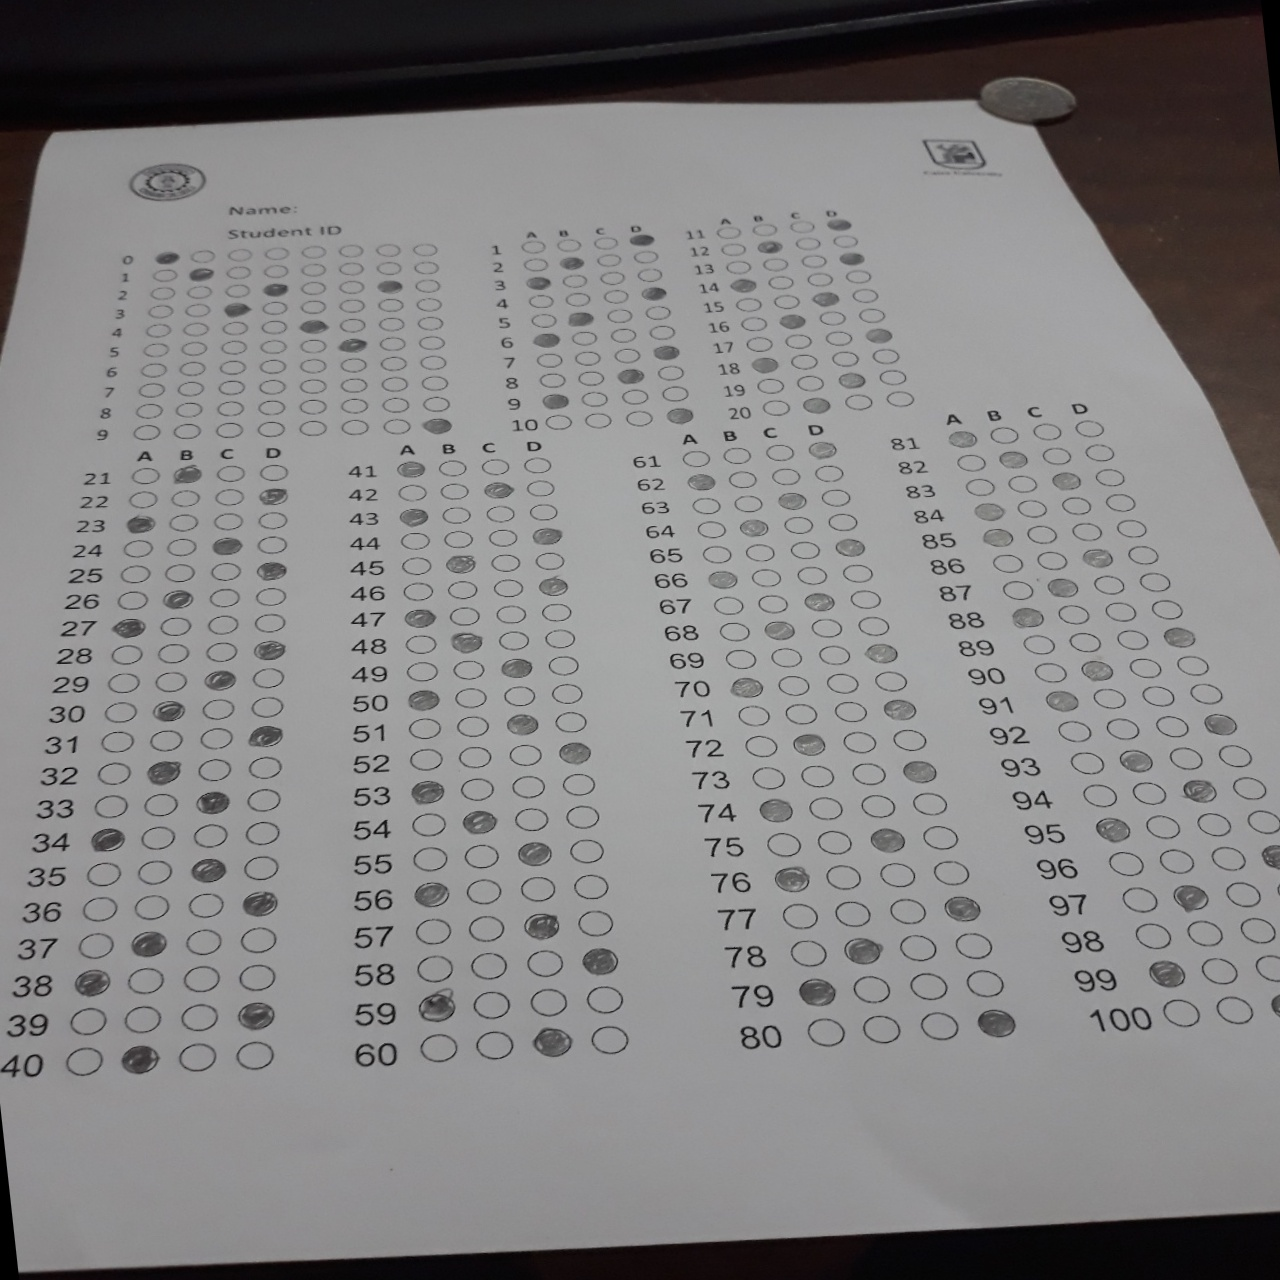not-c: (64, 1005, 113, 1037), (175, 1040, 222, 1073), (120, 1003, 166, 1035), (233, 1039, 279, 1070), (60, 1044, 105, 1076), (123, 964, 166, 995), (184, 888, 229, 919), (860, 1012, 903, 1043), (1192, 806, 1234, 838), (74, 930, 117, 960), (130, 892, 173, 922), (850, 974, 893, 1005), (1158, 996, 1201, 1027), (182, 926, 226, 955), (524, 947, 566, 978), (414, 953, 456, 983), (1214, 994, 1257, 1024), (1198, 955, 1240, 986), (1235, 914, 1278, 945), (1184, 917, 1226, 947), (1105, 847, 1148, 878), (1207, 843, 1250, 873), (1078, 778, 1121, 809), (178, 1002, 222, 1032), (179, 964, 223, 993), (237, 924, 280, 953), (79, 893, 122, 922), (134, 856, 177, 885), (804, 1016, 847, 1046), (1131, 919, 1175, 948), (470, 988, 511, 1019), (527, 987, 568, 1017), (584, 983, 625, 1014), (588, 1023, 629, 1054), (1223, 878, 1264, 908), (1119, 883, 1160, 913), (1126, 776, 1167, 806), (411, 915, 454, 945), (467, 951, 509, 980), (234, 962, 277, 992), (952, 930, 994, 959), (964, 969, 1006, 999), (907, 971, 949, 1000), (918, 1010, 960, 1040), (1141, 811, 1183, 840), (1228, 774, 1271, 803), (574, 907, 615, 937), (474, 1029, 515, 1058), (417, 1032, 458, 1061), (139, 790, 181, 819), (787, 938, 828, 967), (1156, 845, 1197, 874), (239, 852, 281, 880), (241, 819, 284, 847), (138, 823, 181, 851), (89, 792, 131, 821), (876, 859, 915, 888), (832, 898, 872, 927), (83, 859, 124, 887), (191, 822, 232, 850), (930, 858, 971, 886), (823, 863, 863, 891), (779, 901, 819, 930), (243, 787, 284, 813), (887, 896, 928, 922), (1242, 806, 1280, 836), (463, 877, 503, 904), (467, 914, 506, 941), (888, 726, 928, 753), (1065, 749, 1107, 775), (567, 837, 606, 864), (518, 874, 557, 901), (898, 934, 937, 961), (94, 760, 134, 785), (248, 666, 288, 692), (849, 760, 888, 785), (1053, 717, 1092, 743), (572, 872, 610, 899), (1153, 712, 1191, 738), (147, 727, 185, 753), (101, 699, 139, 724), (749, 764, 788, 790), (797, 762, 836, 788), (859, 792, 898, 818), (815, 829, 853, 855), (1103, 714, 1142, 740), (97, 728, 137, 753), (150, 669, 190, 694), (908, 791, 948, 816), (920, 825, 960, 850), (762, 832, 802, 857), (463, 842, 501, 867), (245, 754, 282, 779), (806, 795, 844, 821), (1187, 680, 1225, 706), (1138, 682, 1176, 708), (197, 726, 236, 750), (246, 694, 285, 719), (103, 670, 142, 695), (155, 640, 193, 665), (840, 729, 879, 754), (1165, 745, 1204, 770), (202, 640, 241, 663), (410, 846, 448, 871), (200, 696, 238, 721), (455, 745, 493, 769), (510, 774, 549, 797), (410, 812, 449, 836), (563, 804, 601, 828), (998, 579, 1036, 602), (250, 612, 290, 634), (161, 561, 200, 584), (162, 535, 202, 557), (408, 747, 445, 770), (506, 742, 544, 765), (513, 806, 551, 830), (1032, 661, 1069, 685), (1112, 627, 1150, 651), (1019, 633, 1056, 656), (1102, 599, 1139, 622), (1135, 570, 1172, 593), (1124, 543, 1162, 566), (1114, 516, 1151, 539), (195, 757, 233, 779), (156, 614, 195, 636), (203, 613, 241, 635), (251, 586, 290, 608), (206, 586, 245, 608), (1033, 549, 1071, 571), (1252, 951, 1280, 981), (824, 670, 860, 694), (1091, 686, 1128, 709), (1148, 598, 1184, 621), (1091, 572, 1128, 595), (1022, 522, 1058, 545), (1013, 496, 1049, 519), (1103, 490, 1139, 513), (953, 450, 989, 474), (1070, 416, 1107, 440), (114, 588, 154, 610), (108, 644, 145, 666), (742, 734, 779, 756), (1126, 656, 1164, 679), (1065, 629, 1103, 652), (1054, 601, 1091, 624), (1068, 519, 1105, 542), (1028, 418, 1065, 441), (983, 422, 1021, 444), (1175, 654, 1210, 678), (116, 563, 155, 584), (205, 561, 244, 583), (252, 533, 291, 554), (166, 486, 205, 508), (124, 488, 163, 509), (452, 686, 489, 708), (559, 772, 595, 795), (459, 777, 496, 799), (831, 700, 867, 722), (1217, 743, 1253, 765), (989, 552, 1026, 574), (1081, 441, 1117, 463), (120, 537, 157, 558), (254, 510, 292, 531), (210, 510, 247, 531), (164, 511, 202, 532), (783, 702, 818, 724), (1058, 493, 1094, 516), (1092, 467, 1128, 489), (964, 475, 999, 497), (1039, 444, 1074, 467), (455, 715, 491, 736), (769, 645, 803, 667), (549, 682, 584, 703), (553, 712, 588, 733), (407, 717, 442, 738), (855, 615, 890, 636), (723, 648, 758, 669), (736, 704, 771, 726), (445, 579, 479, 600), (493, 604, 527, 625), (873, 670, 907, 692), (1005, 472, 1039, 493), (502, 685, 537, 704), (211, 486, 246, 506), (402, 581, 435, 602), (498, 629, 531, 651), (406, 661, 438, 682), (777, 674, 810, 695), (452, 659, 486, 679), (847, 588, 881, 608), (712, 595, 745, 615), (816, 644, 850, 663), (491, 577, 524, 597), (448, 605, 481, 625), (540, 601, 573, 621), (543, 628, 576, 648), (546, 655, 579, 675), (128, 467, 161, 486), (679, 448, 712, 468), (811, 462, 844, 482), (694, 519, 727, 539), (743, 542, 776, 561), (795, 565, 828, 585), (840, 561, 873, 581), (756, 592, 789, 612), (719, 620, 751, 640), (809, 617, 842, 636), (399, 556, 433, 574), (819, 486, 851, 506), (701, 543, 733, 563), (750, 567, 782, 587), (257, 463, 292, 481), (441, 505, 474, 524), (486, 527, 519, 546), (403, 634, 436, 653), (215, 463, 247, 482), (719, 445, 751, 464), (763, 442, 796, 461), (726, 468, 758, 486), (781, 515, 813, 533), (788, 539, 821, 558), (690, 495, 721, 515), (395, 483, 429, 501), (437, 482, 471, 499), (217, 377, 248, 396), (527, 502, 559, 520), (442, 530, 474, 549), (843, 392, 874, 410), (731, 493, 763, 512), (479, 457, 512, 475), (520, 456, 553, 474), (484, 504, 517, 522), (399, 531, 431, 549), (544, 411, 574, 430), (620, 387, 651, 406), (613, 346, 644, 365), (769, 467, 799, 485), (828, 512, 858, 531), (258, 377, 290, 395), (379, 354, 410, 372), (436, 458, 468, 476), (524, 478, 556, 496), (489, 553, 520, 571), (533, 551, 565, 568), (660, 384, 692, 402), (884, 389, 915, 407), (877, 368, 908, 386), (137, 380, 166, 399), (181, 320, 211, 338), (215, 421, 245, 438), (420, 374, 450, 392), (538, 372, 568, 389), (647, 324, 678, 341), (642, 304, 673, 321), (533, 352, 565, 368), (529, 312, 560, 328), (179, 339, 209, 356), (219, 338, 248, 355), (418, 353, 448, 370), (175, 401, 205, 417), (176, 381, 206, 397), (177, 361, 207, 377), (219, 320, 250, 336), (218, 360, 248, 376), (216, 400, 246, 416), (256, 421, 286, 437), (257, 400, 287, 416), (259, 359, 290, 375), (259, 319, 290, 335), (299, 338, 329, 354), (298, 420, 328, 436), (340, 418, 370, 435), (339, 376, 369, 393), (380, 375, 410, 392), (381, 417, 411, 434), (583, 411, 613, 428), (655, 365, 686, 381), (576, 369, 606, 386), (573, 350, 604, 367), (608, 327, 639, 343), (570, 329, 600, 346), (856, 307, 886, 324), (781, 333, 811, 349), (830, 349, 860, 366), (870, 347, 900, 363), (789, 353, 819, 369), (795, 375, 825, 392), (754, 377, 787, 393), (132, 403, 164, 418), (604, 308, 635, 324), (147, 302, 176, 319), (141, 341, 170, 358), (131, 423, 161, 440), (172, 423, 202, 440), (259, 338, 288, 354), (299, 358, 328, 374), (299, 377, 328, 394), (299, 397, 328, 414), (338, 316, 367, 333), (422, 395, 451, 411), (381, 396, 410, 413), (625, 409, 654, 425), (580, 390, 610, 407), (761, 399, 790, 415), (377, 336, 408, 352), (416, 335, 447, 350), (563, 291, 593, 306), (631, 248, 661, 264), (738, 315, 769, 331), (799, 252, 828, 268), (340, 399, 369, 414), (339, 358, 368, 373), (376, 315, 406, 331), (416, 315, 445, 331), (522, 257, 551, 272), (554, 237, 584, 252), (519, 238, 549, 253), (829, 233, 858, 248), (805, 271, 835, 286), (765, 274, 795, 290), (818, 309, 847, 325), (823, 331, 855, 345), (263, 246, 291, 261), (595, 252, 624, 267), (788, 218, 818, 232), (760, 257, 790, 271), (843, 268, 873, 282), (734, 297, 764, 311), (225, 248, 254, 263), (299, 263, 328, 277), (374, 261, 403, 275), (410, 241, 440, 256), (376, 298, 406, 312), (147, 286, 176, 300), (598, 270, 627, 284), (559, 273, 588, 287), (591, 236, 620, 250), (750, 222, 779, 236), (792, 236, 822, 250), (851, 287, 880, 301), (744, 336, 774, 350), (338, 243, 365, 258), (338, 279, 365, 294), (300, 299, 327, 314), (145, 322, 172, 338), (225, 265, 253, 279), (299, 245, 327, 259), (373, 243, 401, 257), (413, 260, 441, 274), (414, 278, 442, 292), (338, 298, 366, 312), (299, 281, 327, 295), (261, 301, 290, 315), (185, 285, 213, 299), (184, 302, 212, 316), (151, 268, 179, 282), (526, 293, 554, 307), (635, 267, 663, 281), (715, 225, 743, 239), (720, 241, 748, 256), (724, 260, 753, 274), (772, 293, 801, 307), (189, 248, 216, 263), (263, 264, 290, 278), (224, 284, 251, 298), (338, 261, 365, 275), (415, 297, 442, 311), (141, 363, 168, 377), (602, 290, 631, 302), (1272, 876, 1280, 906)
taken-c: (971, 1006, 1017, 1037), (234, 999, 278, 1032), (415, 990, 459, 1022), (117, 1044, 161, 1076), (128, 927, 171, 959), (87, 823, 130, 855), (530, 1027, 574, 1057), (69, 967, 114, 998), (237, 888, 281, 919), (410, 879, 452, 910), (188, 856, 230, 886), (246, 722, 287, 751), (794, 978, 837, 1005), (520, 911, 560, 940), (192, 787, 233, 815), (144, 760, 186, 787), (580, 947, 620, 975), (842, 937, 881, 964), (1092, 815, 1133, 840), (772, 865, 811, 892), (1172, 884, 1211, 911), (756, 796, 796, 822), (1146, 960, 1186, 986), (248, 638, 290, 662), (459, 809, 498, 835), (409, 779, 448, 805), (516, 840, 554, 866), (899, 757, 938, 783), (867, 826, 906, 852), (941, 896, 980, 921), (149, 699, 188, 723), (790, 731, 828, 756), (207, 535, 248, 557), (200, 668, 239, 692), (110, 615, 149, 639), (556, 740, 592, 764), (406, 687, 441, 712), (862, 642, 903, 663), (1118, 748, 1153, 772), (159, 587, 198, 610), (880, 696, 917, 720), (505, 713, 540, 736), (1201, 712, 1237, 735), (1162, 625, 1196, 648), (1046, 688, 1080, 712), (728, 678, 767, 697), (256, 560, 290, 583), (1182, 779, 1216, 802), (1080, 660, 1115, 681), (531, 525, 564, 547), (449, 632, 483, 653), (536, 576, 570, 597), (1048, 470, 1082, 491), (1046, 576, 1080, 597), (971, 501, 1006, 520), (403, 607, 436, 628), (501, 656, 533, 678), (124, 513, 157, 535), (946, 427, 979, 448), (1012, 607, 1044, 628), (481, 481, 515, 501), (172, 464, 206, 484), (256, 485, 290, 505), (1080, 547, 1114, 567), (707, 568, 738, 590), (803, 591, 835, 612), (763, 619, 795, 640), (443, 554, 476, 574), (998, 448, 1030, 468), (980, 527, 1014, 546), (833, 537, 865, 557), (397, 508, 430, 526), (1258, 842, 1280, 869), (298, 316, 331, 334), (336, 335, 369, 353), (538, 392, 571, 409), (662, 407, 695, 424), (651, 343, 683, 361), (806, 441, 837, 459), (737, 518, 768, 537), (394, 459, 425, 477), (615, 367, 647, 384), (564, 309, 595, 327), (686, 472, 717, 490), (222, 300, 254, 316), (373, 278, 406, 294), (422, 417, 455, 434), (531, 331, 563, 347), (777, 492, 806, 510), (837, 372, 867, 388), (260, 282, 292, 298), (777, 313, 806, 329), (802, 396, 831, 413), (750, 358, 779, 373), (154, 250, 182, 265), (186, 267, 217, 281), (837, 250, 865, 265), (811, 291, 839, 306), (863, 328, 891, 343), (639, 286, 668, 300), (523, 275, 552, 290), (557, 256, 586, 270), (628, 231, 655, 246), (729, 278, 756, 293), (755, 239, 782, 253), (825, 216, 852, 230), (1268, 992, 1280, 1021)
